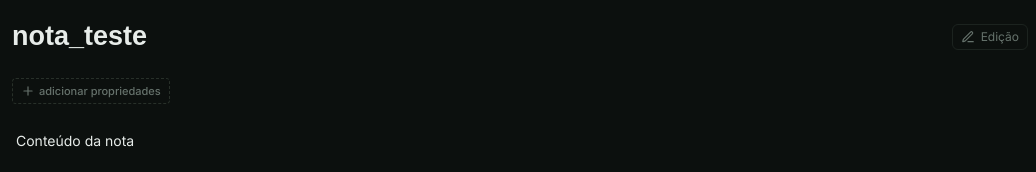
Test case: MarkdownEditor Component › deve exibir erro inline se a renomeação falhar no backend (colisão)
# Altera para nota_existente (simula colisão de arquivos no disco)
Replace the text in the field with placeholder "Sem título" with "nota_existente" at (478, 37), box [12,12,944,62]
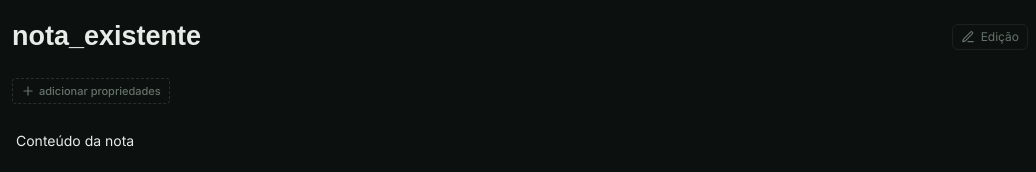
Leave the field with placeholder "Sem título", box [12,12,944,62]
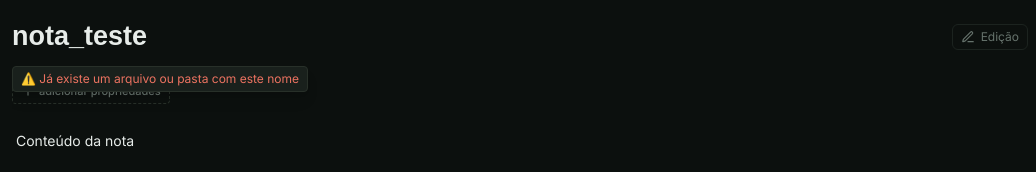
expect the text "⚠️ Já existe um arquivo ou pasta com este nome" is shown: met, box [12,66,308,92]
expect the field with placeholder "Sem título" holds "nota_teste": met, box [12,12,944,62]
